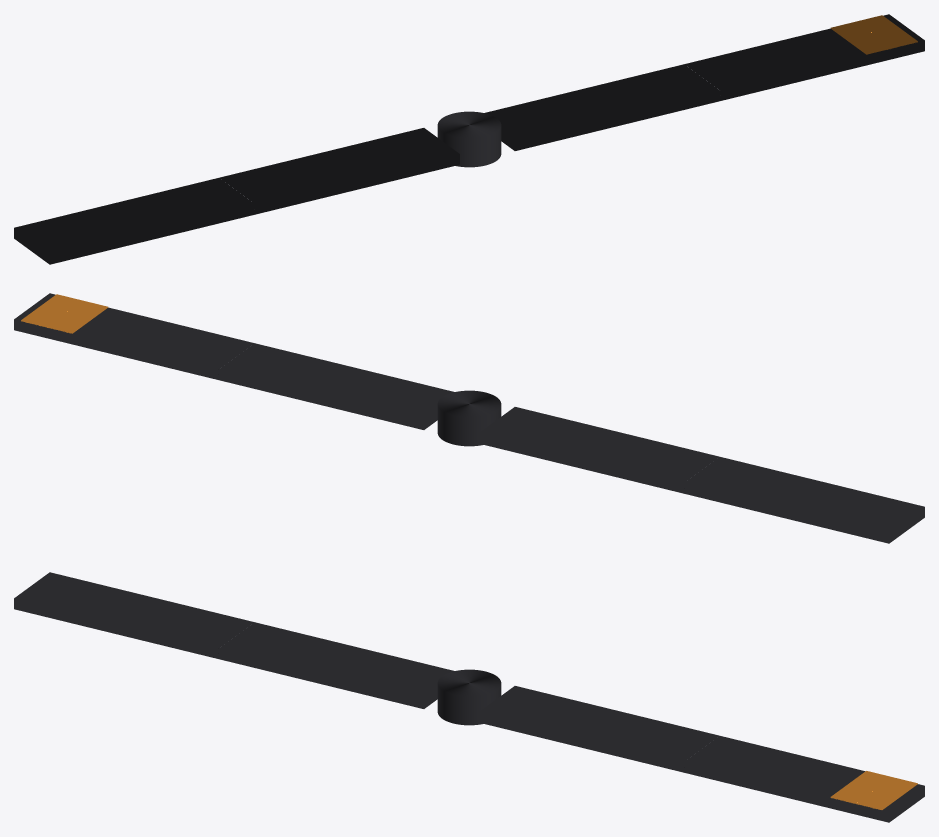
Rendered from propeller.obj.
3 views of the same model, one above another, from view 1: azimuth 30°, elevation 25°; view 2: azimuth 150°, elevation 25°; view 3: azimuth 330°, elevation 25° (orthographic).
Visible parts, largest first — view 1: blade_2, blade, hub, tip_mark; view 2: blade_2, blade, hub, tip_mark; view 3: blade_2, blade, hub, tip_mark.
Part boxes in pixels (bbox=[...]): blade_2: bbox=[14, 128, 459, 264]; blade: bbox=[484, 14, 924, 150]; hub: bbox=[437, 111, 501, 167]; tip_mark: bbox=[830, 15, 917, 54]; blade_2: bbox=[479, 407, 924, 543]; blade: bbox=[14, 293, 454, 429]; hub: bbox=[437, 390, 501, 446]; tip_mark: bbox=[21, 294, 108, 333]; blade_2: bbox=[14, 572, 454, 708]; blade: bbox=[479, 686, 924, 822]; hub: bbox=[437, 669, 501, 725]; tip_mark: bbox=[830, 771, 917, 809].
Size of the model in its own units: 0.254 by 0.008 by 0.018.
